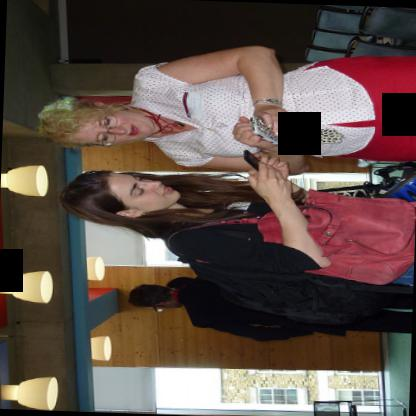backpack: (167, 210, 368, 327)
handbag: (165, 187, 416, 285)
